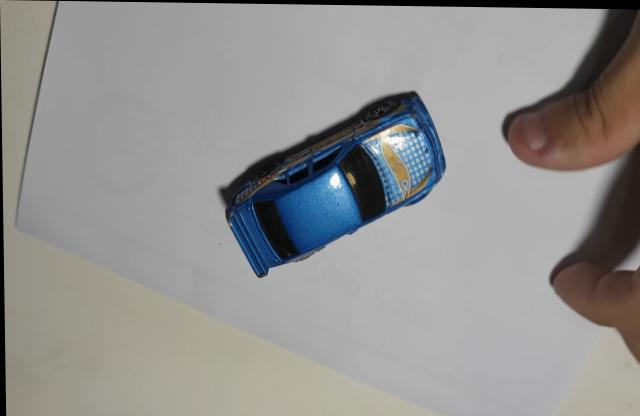04_MERZEDES: (221, 88, 448, 276)
